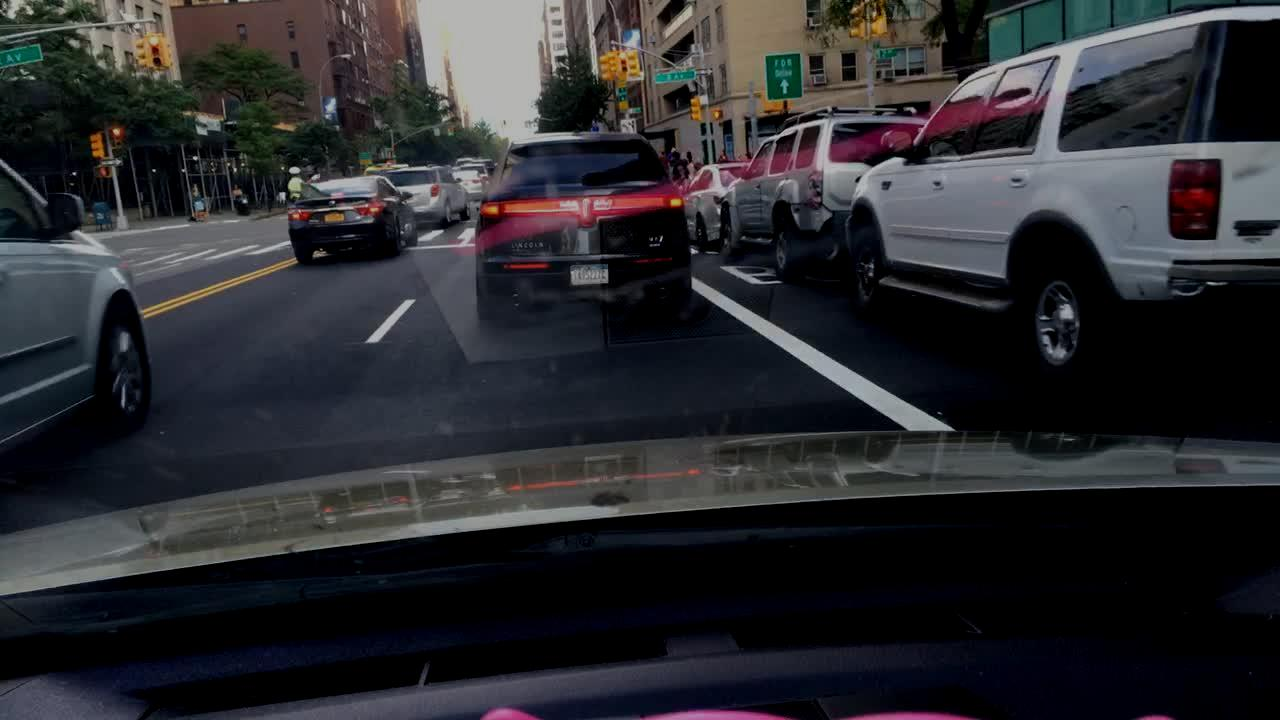lincoln: (580, 194, 592, 223)
